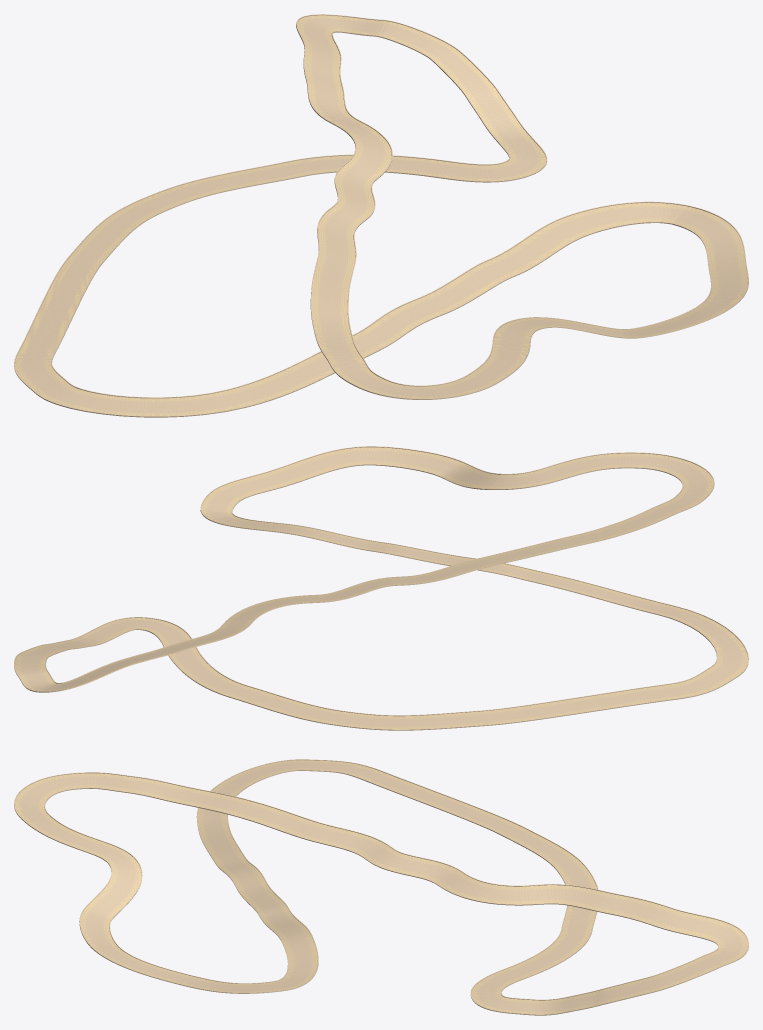
File: BigRoad.fbx
3 views of the same model, one above another, from view 1: azimuth 30°, elevation 25°; view 2: azimuth 150°, elevation 25°; view 3: azimuth 270°, elevation 25° (orthographic). The views are drawn at different scales.
Parts seen in each view (by area): view 1: BigRoad; view 2: BigRoad; view 3: BigRoad.
Boxes of the visible parts, x1,y1,x2,y2 form: BigRoad: [14, 14, 748, 417]; BigRoad: [14, 446, 748, 730]; BigRoad: [14, 759, 748, 1015].
Size of the model in its own units: 196174 by 20667 by 232147.
